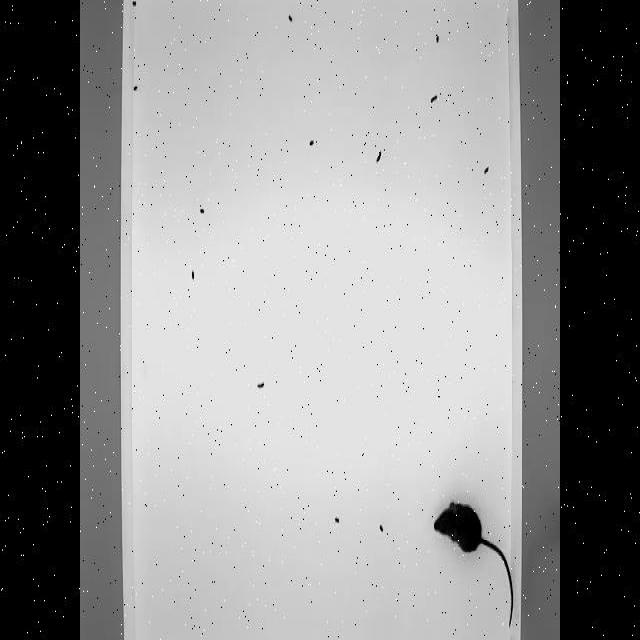rat: (431, 499, 515, 629)
